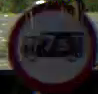Heavy Vehicles: (7, 4, 96, 89)
